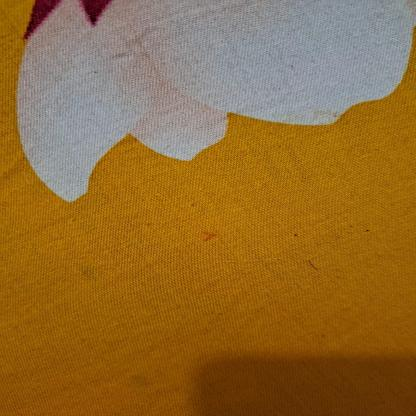spot: (192, 225, 228, 246), (71, 260, 104, 282)
